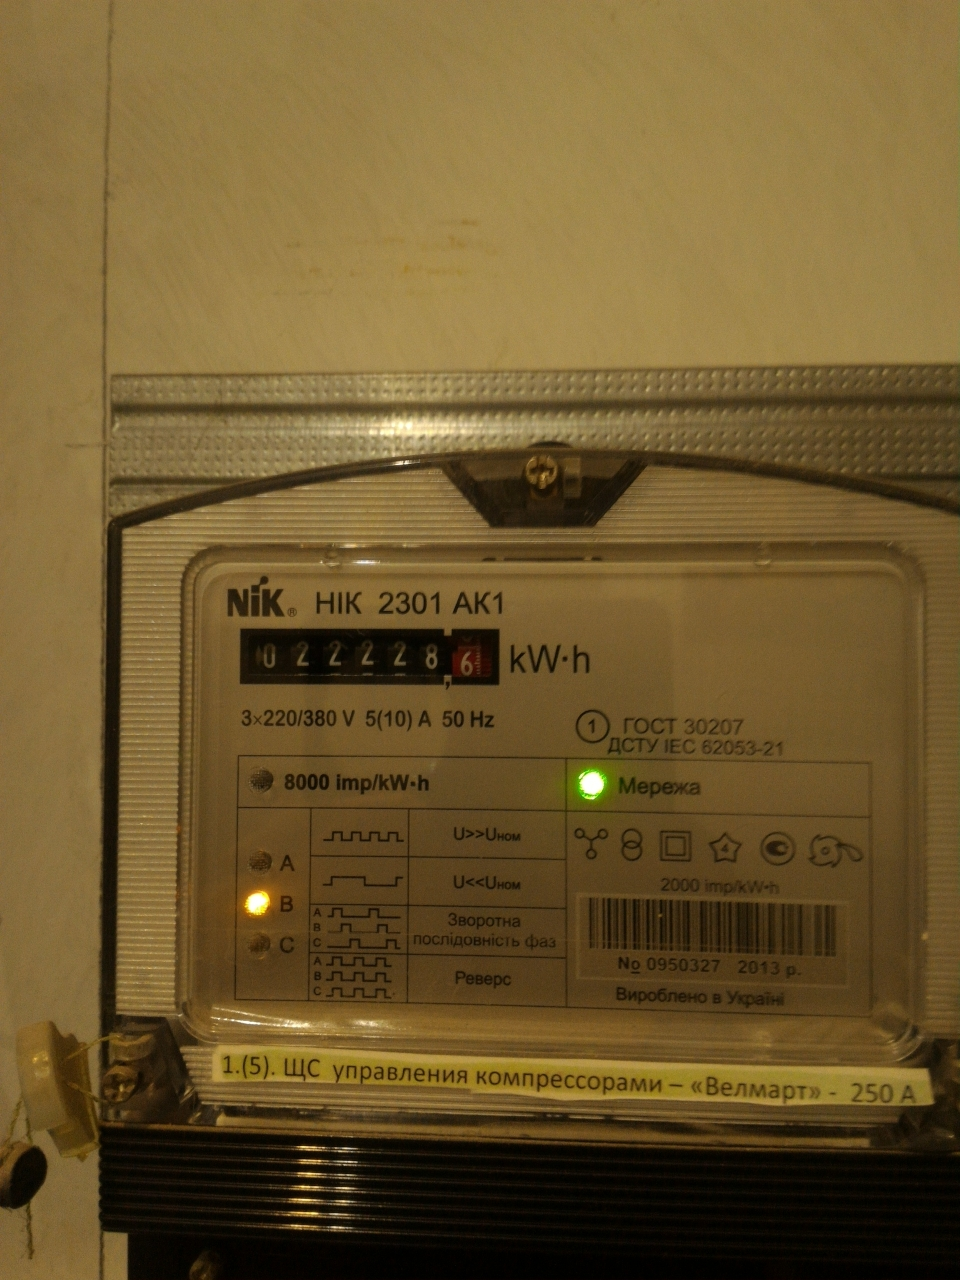0: (260, 640, 278, 670)
2: (326, 638, 344, 668), (359, 638, 376, 668), (294, 640, 312, 668), (391, 639, 408, 667)
6: (459, 649, 475, 677)
8: (423, 641, 440, 671)
screen: (229, 617, 514, 696)
